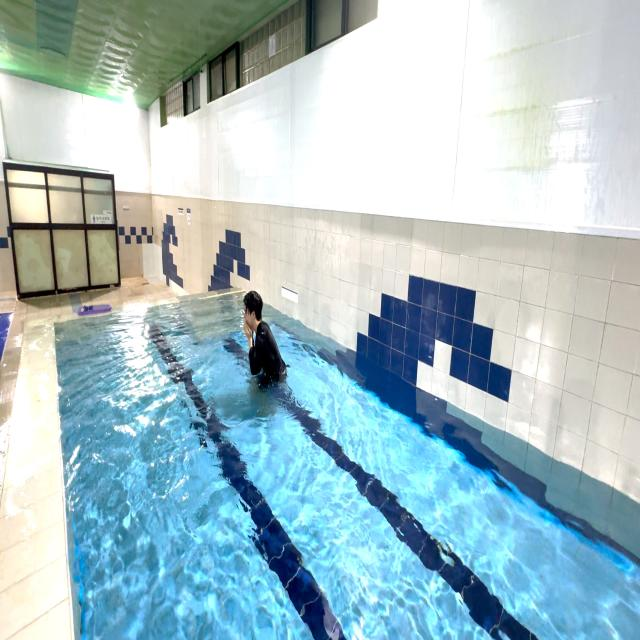Swimming: (236, 284, 288, 392)
